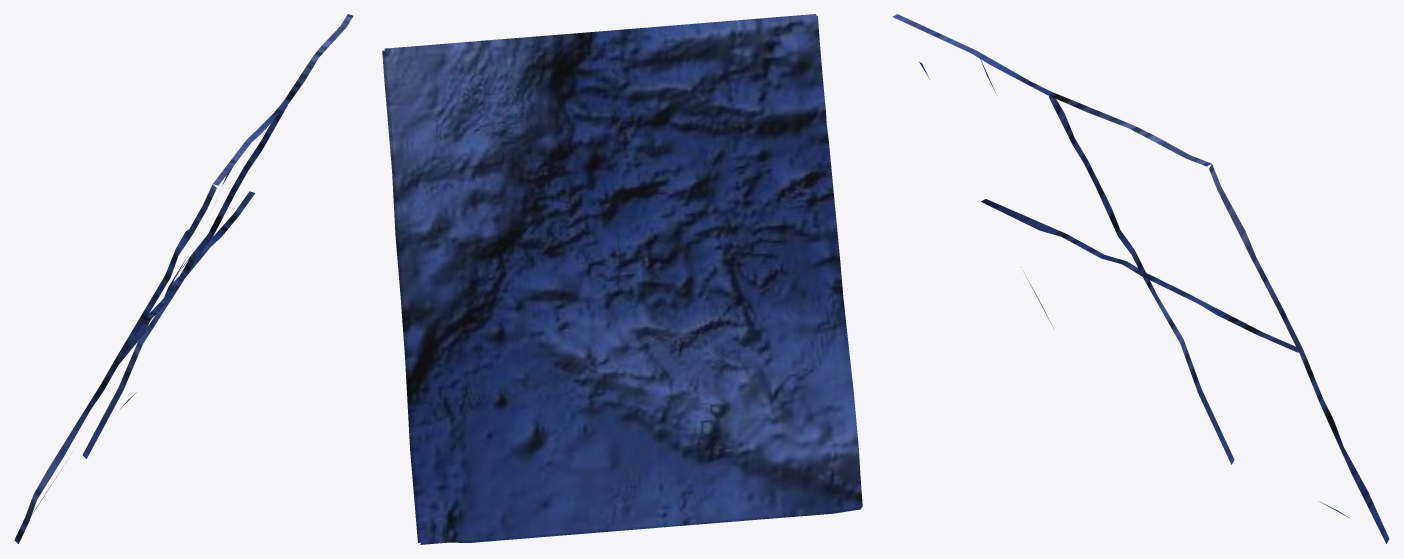
The picture shows the model from 3 angles, left to right: view 1: azimuth 30°, elevation 25°; view 2: azimuth 150°, elevation 25°; view 3: azimuth 270°, elevation 25°; orthographic projection. The views are drawn at different scales.
Size of the model in its own units: 304217 by 284842 by 290226.
Materials: 1 (1 with a texture image).
